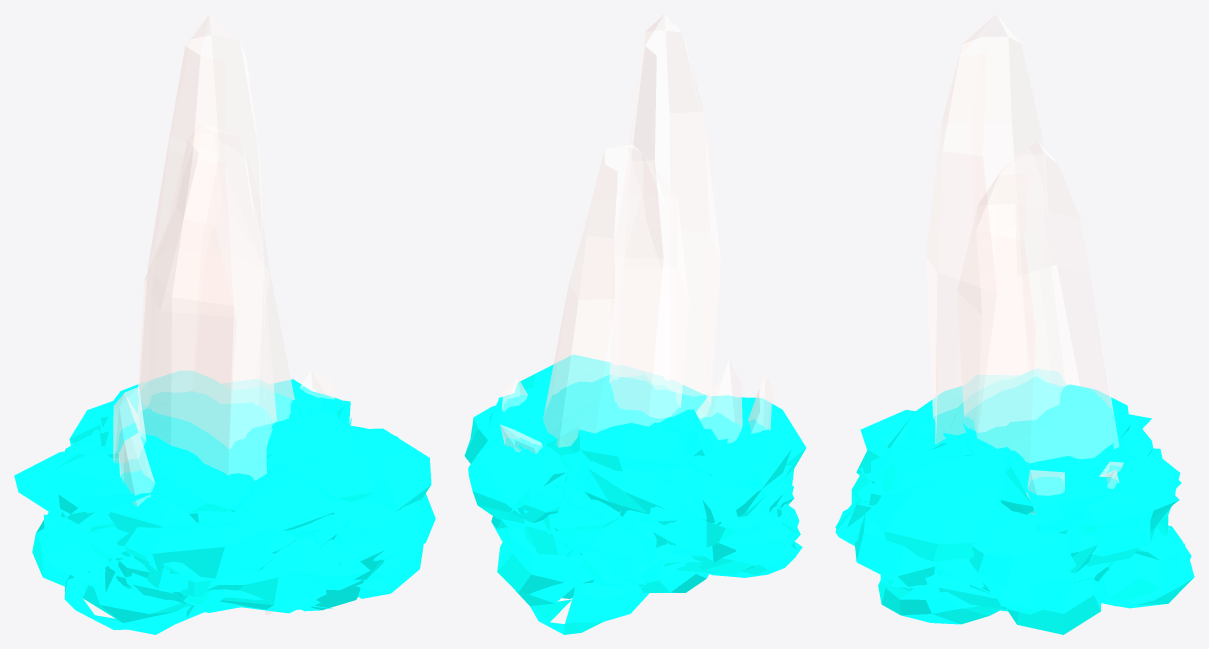
The model's file is XRYSTAL43.gltf.
The picture shows the model from 3 angles, left to right: view 1: azimuth 30°, elevation 25°; view 2: azimuth 150°, elevation 25°; view 3: azimuth 270°, elevation 25°; orthographic projection. The views are drawn at different scales.
Visible parts, largest first — view 1: Cube.001, Circle; view 2: Cube.001, Circle; view 3: Cube.001, Circle.
Part boxes in pixels (x1=…): Cube.001: x1=14, y1=371, x2=435, y2=634; Circle: x1=113, y1=14, x2=334, y2=615; Cube.001: x1=464, y1=354, x2=806, y2=634; Circle: x1=500, y1=14, x2=772, y2=453; Cube.001: x1=835, y1=370, x2=1194, y2=634; Circle: x1=926, y1=14, x2=1123, y2=514.
Size of the model in its own units: 2.79 by 4.56 by 2.59.
